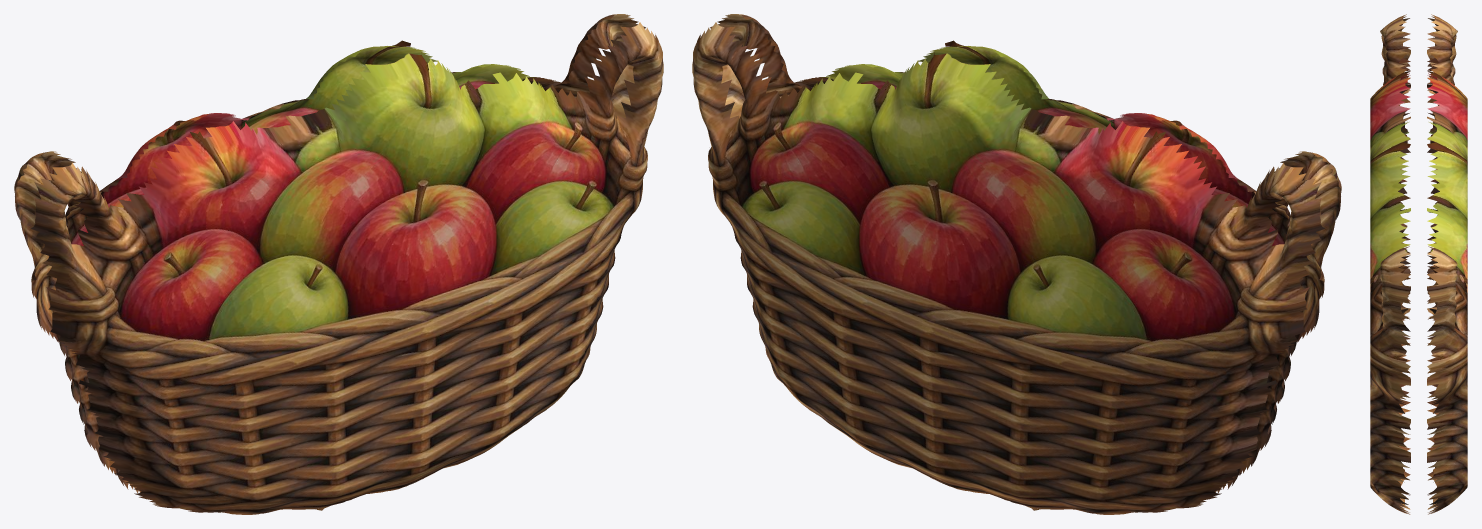
The model's file is v4-general-store-scatter-apples.glb.
3 renders of one model, left to right at view 1: azimuth 30°, elevation 25°; view 2: azimuth 150°, elevation 25°; view 3: azimuth 270°, elevation 25°, orthographic. The views are drawn at different scales.
Visible parts, largest first — view 1: v4-general-store-scatter-apples; view 2: v4-general-store-scatter-apples; view 3: v4-general-store-scatter-apples.
Part boxes in pixels (left/top/right/bottom): v4-general-store-scatter-apples: left=14, top=14, right=663, bottom=514; v4-general-store-scatter-apples: left=692, top=14, right=1341, bottom=514; v4-general-store-scatter-apples: left=1370, top=14, right=1467, bottom=514.
Size of the model in its own units: 1.5 by 0.9811 by 0.24.
Materials: 1 (1 with a texture image).
